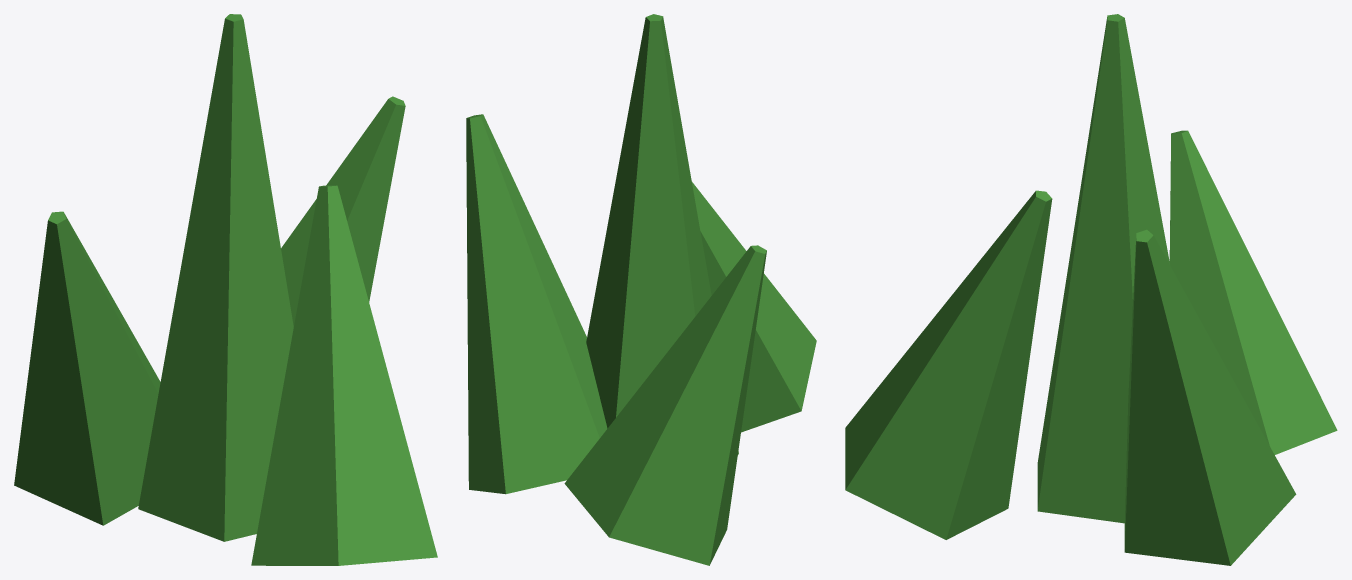
Rendered from grass.glb.
3 renders of one model, left to right at view 1: azimuth 30°, elevation 25°; view 2: azimuth 150°, elevation 25°; view 3: azimuth 270°, elevation 25°, orthographic. The views are drawn at different scales.
Parts seen in each view (by area): view 1: Grass; view 2: Grass; view 3: Grass.
Part boxes in pixels (x1,y1,x2,y2): Grass: [14, 14, 437, 565]; Grass: [466, 14, 816, 565]; Grass: [845, 14, 1337, 565].
Size of the model in its own units: 0.1977 by 0.2809 by 0.2565.
